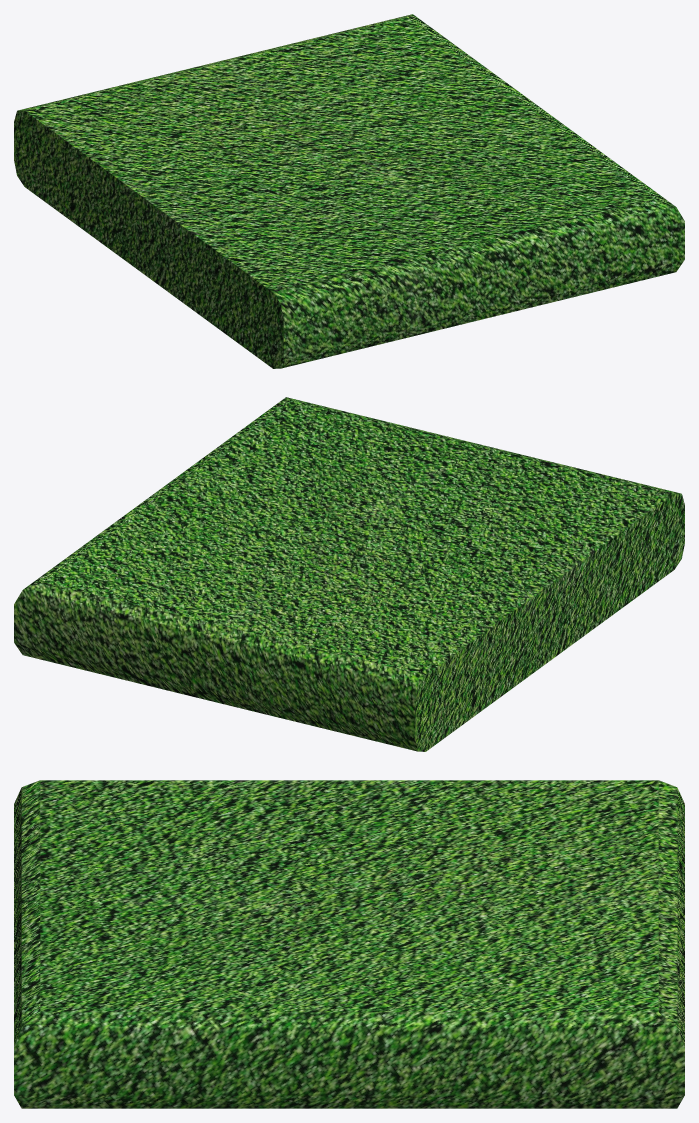
File: tapaPlataformaFinal.fbx
The picture shows the model from 3 angles, top to bottom: view 1: azimuth 30°, elevation 25°; view 2: azimuth 150°, elevation 25°; view 3: azimuth 270°, elevation 25°; orthographic projection. The views are drawn at different scales.
Parts seen in each view (by area): view 1: tapaPlataformaFinal; view 2: tapaPlataformaFinal; view 3: tapaPlataformaFinal.
Boxes of the visible parts, x1=… form: tapaPlataformaFinal: x1=14, y1=14, x2=684, y2=368; tapaPlataformaFinal: x1=14, y1=397, x2=684, y2=751; tapaPlataformaFinal: x1=14, y1=780, x2=684, y2=1108.
Size of the model in its own units: 2.75 by 0.5 by 3.2.
Materials: 1 (1 with a texture image).
